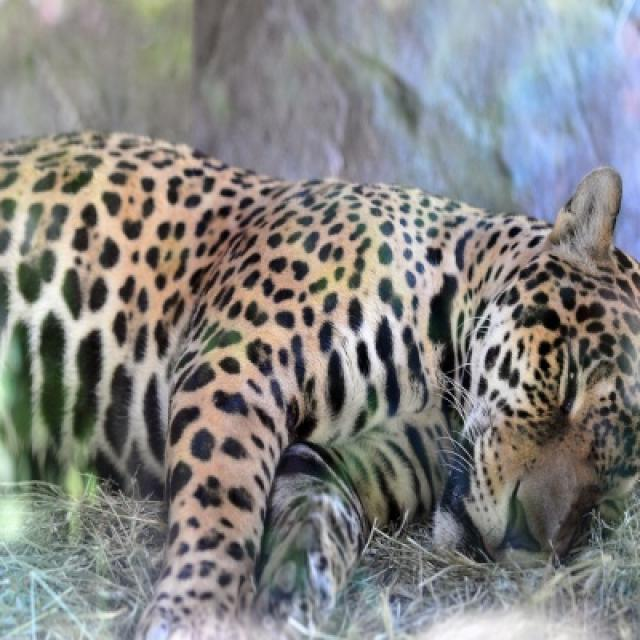Jaguar: (0, 134, 638, 636)
